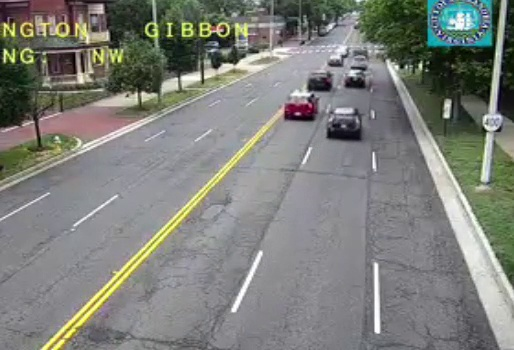car: (327, 108, 362, 138), (284, 93, 318, 119), (308, 72, 332, 90), (343, 70, 366, 88)
